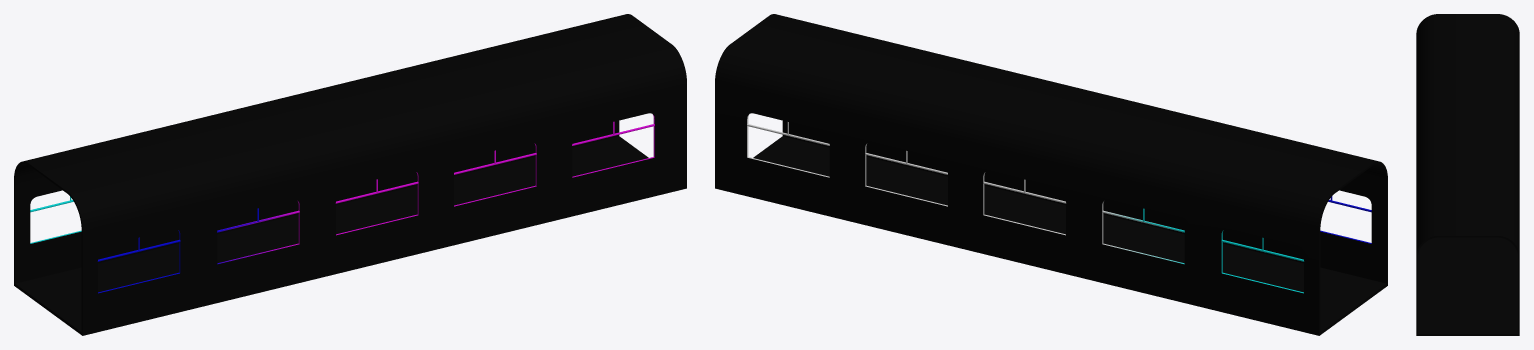
The model's file is VagónVentanas.fbx.
3 views of the same model, side by side, from view 1: azimuth 30°, elevation 25°; view 2: azimuth 150°, elevation 25°; view 3: azimuth 270°, elevation 25° (orthographic). The views are drawn at different scales.
Parts seen in each view (by area): view 1: VagonVentanasLau004; view 2: VagonVentanasLau004; view 3: VagonVentanasLau004.
Part boxes in pixels (<box>): VagonVentanasLau004: <box>14,14,686,335</box>; VagonVentanasLau004: <box>715,14,1387,335</box>; VagonVentanasLau004: <box>1416,14,1519,335</box>.
Size of the model in its own units: 2034 by 428 by 401.
